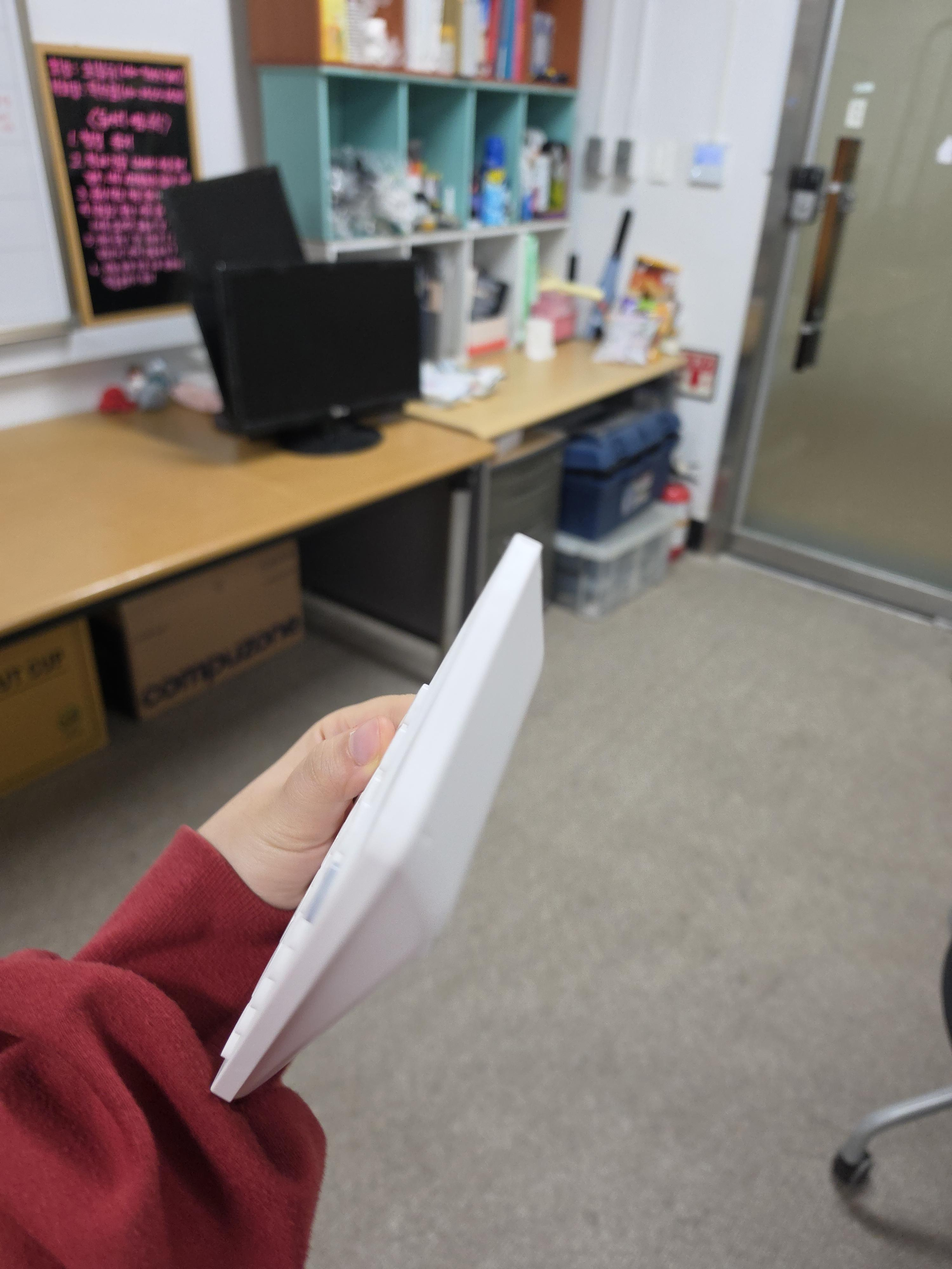calculator: (211, 532, 545, 1103)
